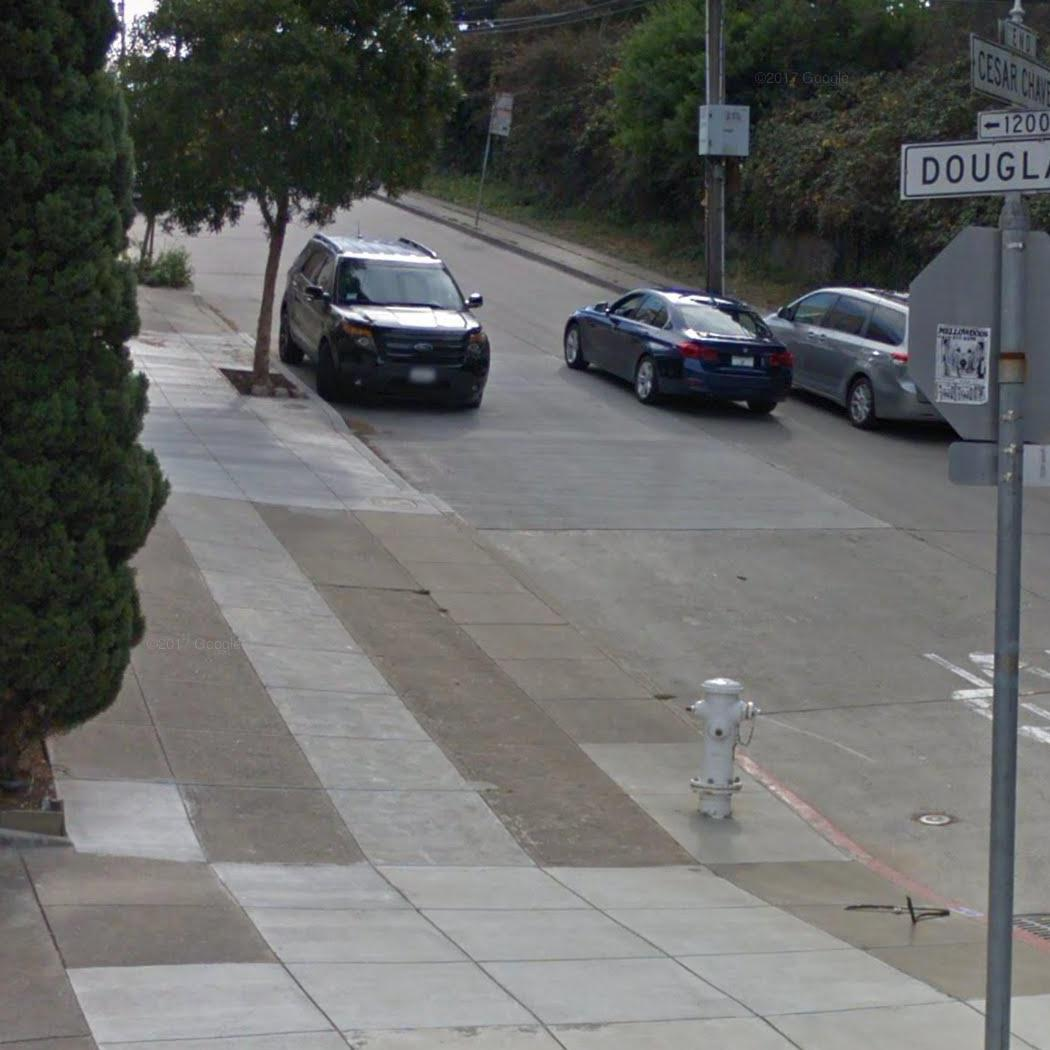2 Hour Parking: (490, 107, 514, 136)
No Parking: (493, 89, 515, 108)
